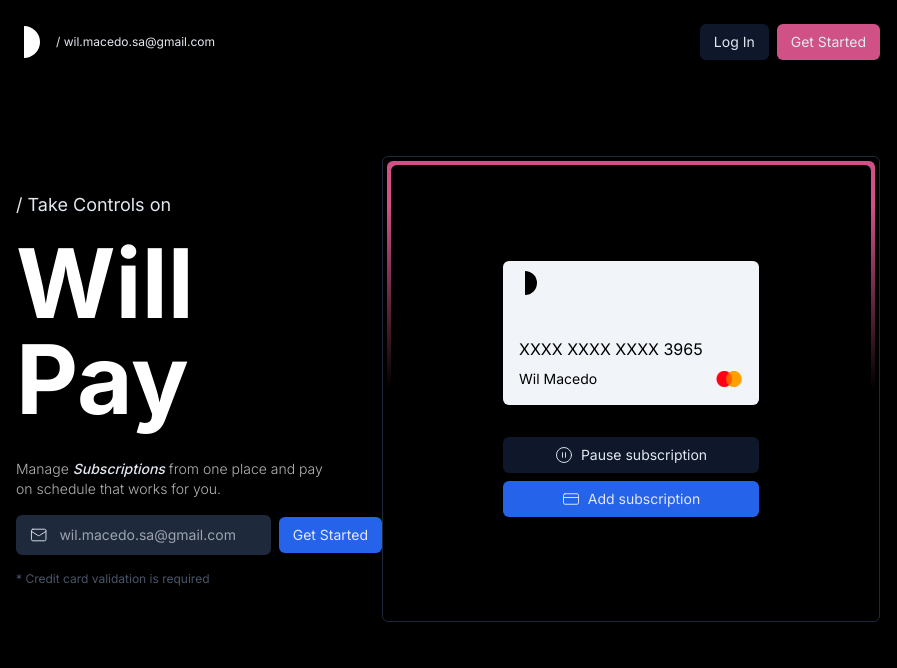
Test: Home case › should click in Get Started button in navbar and redirect to register page
What coordinates should you click on to do the following:
click the link "Get Started"
I would click on:
 (829, 42)
Its box is [777, 24, 880, 60].
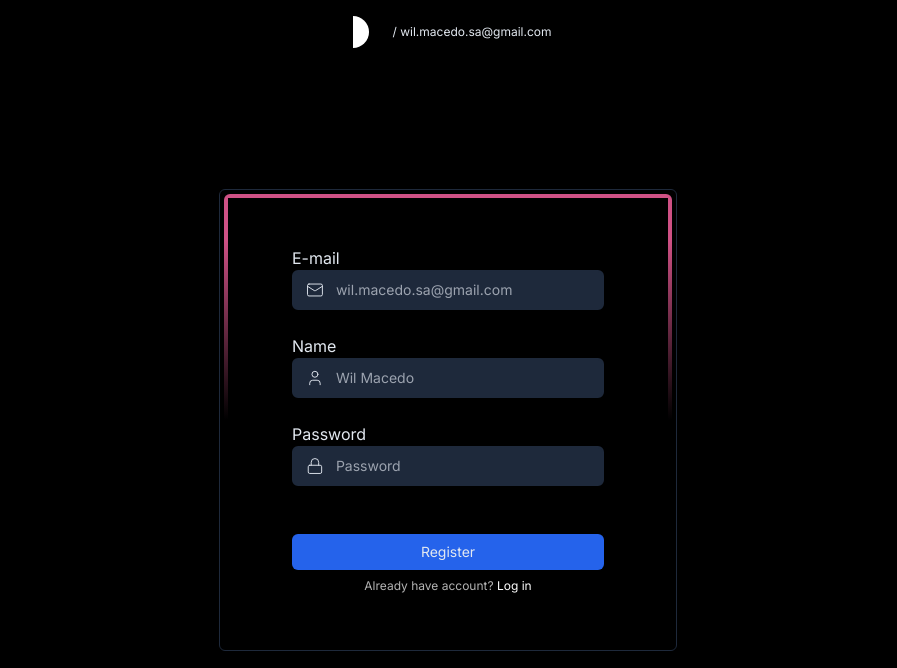
Expected: the text "Already have account?" is shown, [364, 578, 493, 593]
